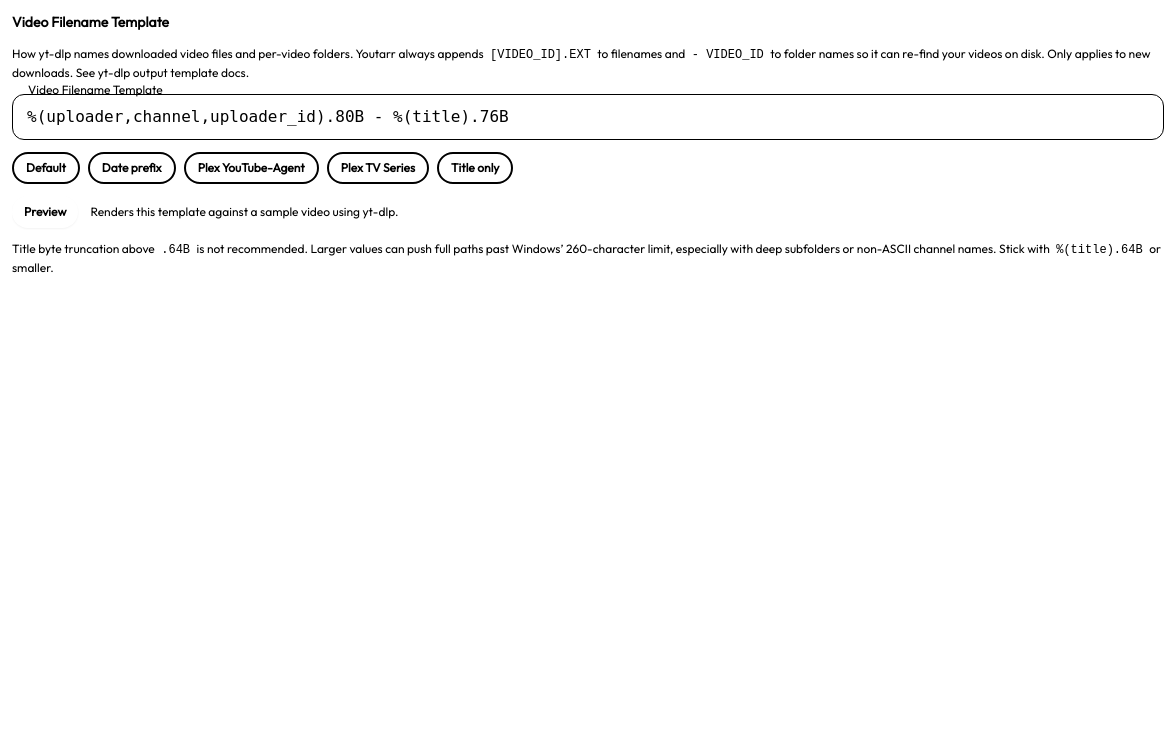
VideoFilenameTemplate › renders both file and folder lines after Preview is clicked and resolves
Click the button with test id "filename-preview-button". click: (45, 212)
box: [12,196,78,228]
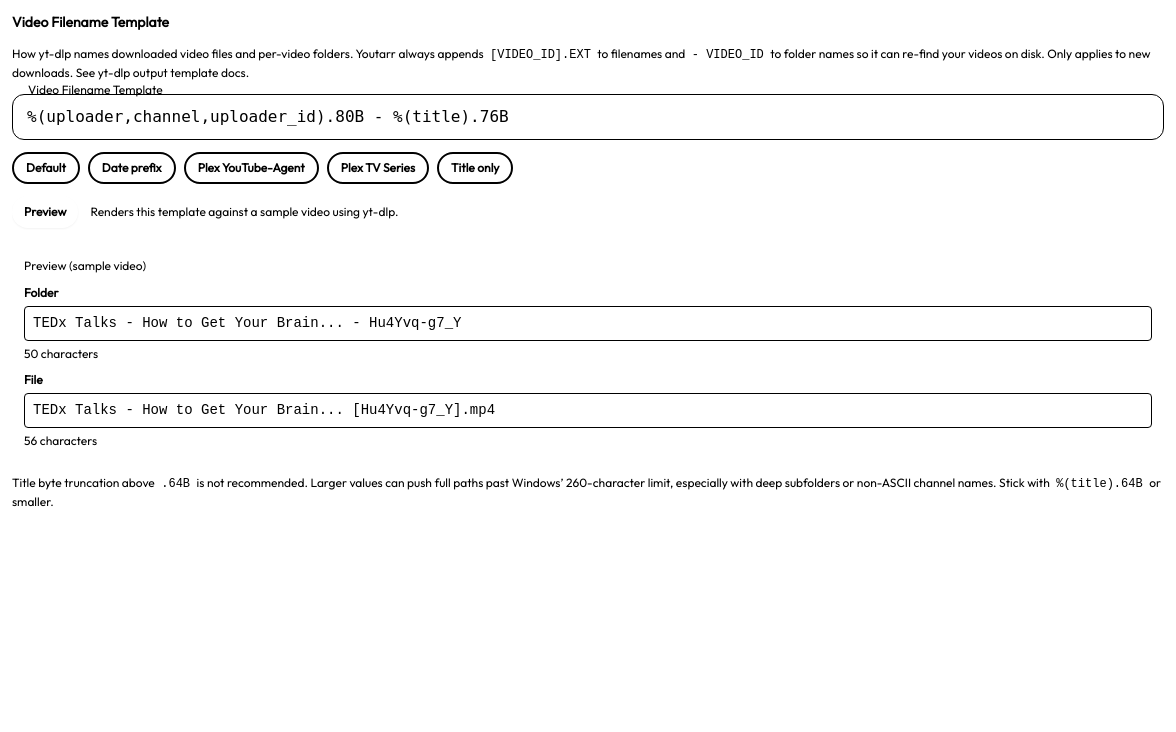
Check: the text with test id "filename-preview-file" reads "TEDx Talks - How to Get Your Brain... [Hu4Yvq-g7_Y].mp4", box [33,402,495,418]
Check: the text with test id "filename-preview-folder" reads "TEDx Talks - How to Get Your Brain... - Hu4Yvq-g7_Y", box [33,315,462,331]
